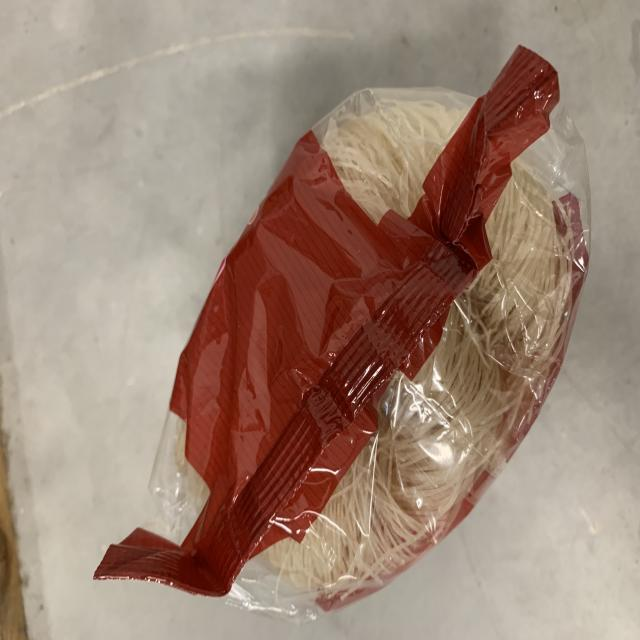object_name: (139, 108, 519, 599)
